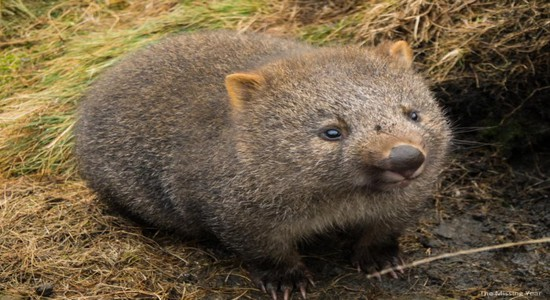Wombat: (73, 30, 453, 300)
